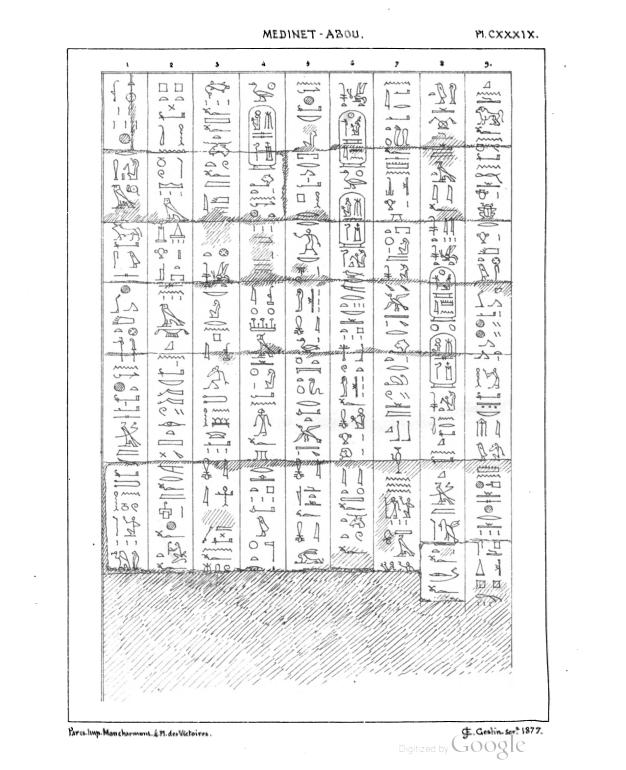circle: (246, 104, 280, 172), (333, 108, 368, 169), (337, 189, 371, 249), (426, 332, 459, 391), (426, 267, 460, 324)
